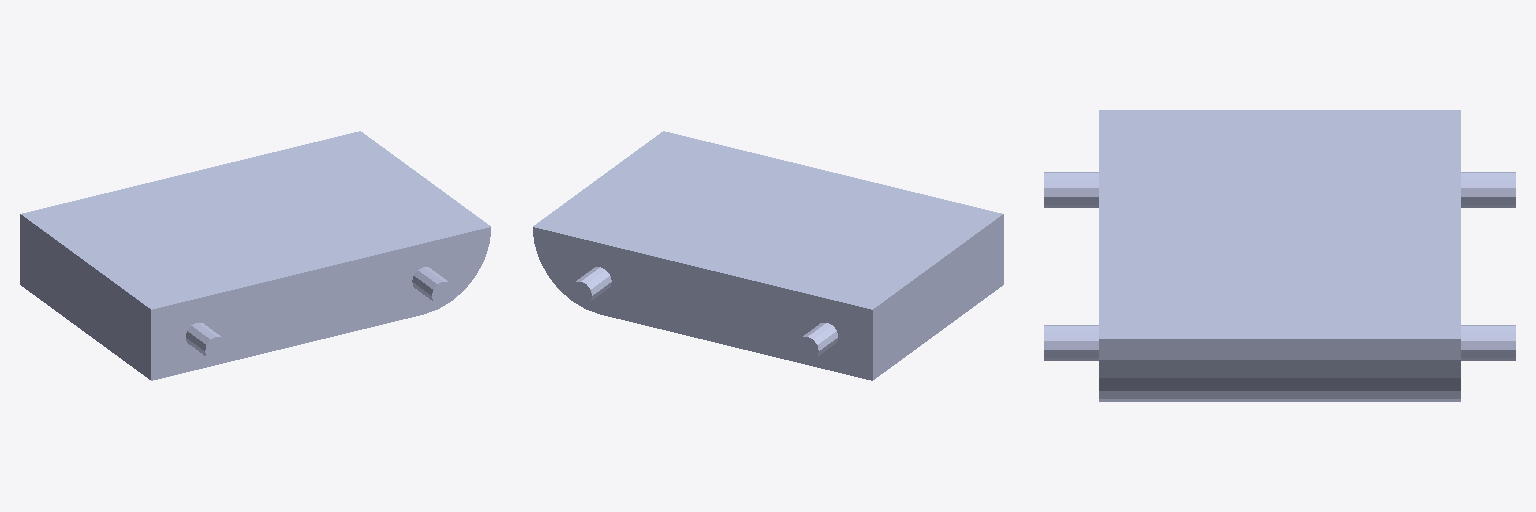
robot.urdf — test_robot_new:
<?xml version="1.0" encoding="utf-8"?>
<!-- This URDF was automatically created by SolidWorks to URDF Exporter! Originally created by [author] ([email redacted]) 
     Commit Version: 1.6.0-4-g7f85cfe  Build Version: 1.6.7995.38578
     For more information, please see http://wiki.ros.org/sw_urdf_exporter -->
<robot
  name="test_robot_new">
  <link
    name="base_link">
    <inertial>
      <origin
        xyz="-0.00783295899626751 -5.55111512312578E-17 0.0390350757080335"
        rpy="0 0 0" />
      <mass
        value="7.13489855703134" />
      <inertia
        ixx="0.0429607300728186"
        ixy="1.26516236649837E-18"
        ixz="-0.00117164522722027"
        iyy="0.0837969089032935"
        iyz="-8.50328223285494E-19"
        izz="0.120038095633599" />
    </inertial>
    <visual>
      <origin
        xyz="0 0 0"
        rpy="0 0 0" />
      <geometry>
        <mesh
          filename="package://test_robot_new/meshes/base_link.STL" />
      </geometry>
      <material
        name="">
        <color
          rgba="0.792156862745098 0.819607843137255 0.933333333333333 1" />
      </material>
    </visual>
    <collision>
      <origin
        xyz="0 0 0"
        rpy="0 0 0" />
      <geometry>
        <mesh
          filename="package://test_robot_new/meshes/base_link.STL" />
      </geometry>
    </collision>
  </link>
  <link
    name="FL_link">
    <inertial>
      <origin
        xyz="-1.2453E-08 -2.9421E-10 -0.0061242"
        rpy="0 0 0" />
      <mass
        value="0.31652" />
      <inertia
        ixx="0.0001855"
        ixy="-1.1155E-14"
        ixz="-2.8604E-11"
        iyy="0.0001855"
        iyz="-2.6374E-11"
        izz="0.00032954" />
    </inertial>
    <visual>
      <origin
        xyz="0 0 0"
        rpy="0 0 0" />
      <geometry>
        <mesh
          filename="package://test_robot_new/meshes/FL_link.STL" />
      </geometry>
      <material
        name="">
        <color
          rgba="0.75294 0.75294 0.75294 1" />
      </material>
    </visual>
    <collision>
      <origin
        xyz="0 0 0"
        rpy="0 0 0" />
      <geometry>
        <mesh
          filename="package://test_robot_new/meshes/FL_link.STL" />
      </geometry>
    </collision>
  </link>
  <joint
    name="FL_joint"
    type="continuous">
    <origin
      xyz="0.1143 0.1651 0.0381"
      rpy="1.5708 -1.5708 0" />
    <parent
      link="base_link" />
    <child
      link="FL_link" />
    <axis
      xyz="0 0 -1" />
    <dynamics
      friction="0.1" />
  </joint>
  <link
    name="BL_link">
    <inertial>
      <origin
        xyz="-1.2298E-08 3.7791E-09 -0.0061242"
        rpy="0 0 0" />
      <mass
        value="0.31652" />
      <inertia
        ixx="0.0001855"
        ixy="2.8752E-13"
        ixz="-3.5282E-11"
        iyy="0.0001855"
        iyz="-1.5794E-11"
        izz="0.00032954" />
    </inertial>
    <visual>
      <origin
        xyz="0 0 0"
        rpy="0 0 0" />
      <geometry>
        <mesh
          filename="package://test_robot_new/meshes/BL_link.STL" />
      </geometry>
      <material
        name="">
        <color
          rgba="0.75294 0.75294 0.75294 1" />
      </material>
    </visual>
    <collision>
      <origin
        xyz="0 0 0"
        rpy="0 0 0" />
      <geometry>
        <mesh
          filename="package://test_robot_new/meshes/BL_link.STL" />
      </geometry>
    </collision>
  </link>
  <joint
    name="BL_joint"
    type="continuous">
    <origin
      xyz="-0.1397 0.1651 0.0381"
      rpy="1.5708 -1.5708 0" />
    <parent
      link="base_link" />
    <child
      link="BL_link" />
    <axis
      xyz="0 0 -1" />
    <dynamics
      friction="0.1" />
  </joint>
  <link
    name="FR_link">
    <inertial>
      <origin
        xyz="-1.0136E-09 -7.3345E-09 -0.0065939"
        rpy="0 0 0" />
      <mass
        value="0.3168" />
      <inertia
        ixx="0.00018552"
        ixy="-3.4022E-11"
        ixz="1.4574E-10"
        iyy="0.00018552"
        iyz="3.6112E-11"
        izz="0.00032954" />
    </inertial>
    <visual>
      <origin
        xyz="0 0 0"
        rpy="0 0 0" />
      <geometry>
        <mesh
          filename="package://test_robot_new/meshes/FR_link.STL" />
      </geometry>
      <material
        name="">
        <color
          rgba="0.75294 0.75294 0.75294 1" />
      </material>
    </visual>
    <collision>
      <origin
        xyz="0 0 0"
        rpy="0 0 0" />
      <geometry>
        <mesh
          filename="package://test_robot_new/meshes/FR_link.STL" />
      </geometry>
    </collision>
  </link>
  <joint
    name="FR_joint"
    type="continuous">
    <origin
      xyz="0.1143 -0.1651 0.0381"
      rpy="1.5708 -1.5708 0" />
    <parent
      link="base_link" />
    <child
      link="FR_link" />
    <axis
      xyz="0 0 -1" />
    <dynamics
      friction="0.1" />
  </joint>
  <link
    name="FB_link">
    <inertial>
      <origin
        xyz="-1.0518E-08 2.8097E-09 -0.0065939"
        rpy="0 0 0" />
      <mass
        value="0.3168" />
      <inertia
        ixx="0.00018552"
        ixy="-2.4098E-12"
        ixz="-4.0559E-11"
        iyy="0.00018552"
        iyz="-1.4424E-10"
        izz="0.00032954" />
    </inertial>
    <visual>
      <origin
        xyz="0 0 0"
        rpy="0 0 0" />
      <geometry>
        <mesh
          filename="package://test_robot_new/meshes/FB_link.STL" />
      </geometry>
      <material
        name="">
        <color
          rgba="0.75294 0.75294 0.75294 1" />
      </material>
    </visual>
    <collision>
      <origin
        xyz="0 0 0"
        rpy="0 0 0" />
      <geometry>
        <mesh
          filename="package://test_robot_new/meshes/FB_link.STL" />
      </geometry>
    </collision>
  </link>
  <joint
    name="FB_joint"
    type="continuous">
    <origin
      xyz="-0.1397 -0.1651 0.0381"
      rpy="1.5708 -1.5708 0" />
    <parent
      link="base_link" />
    <child
      link="FB_link" />
    <axis
      xyz="0 0 -1" />
    <dynamics
      friction="0.1" />
  </joint>
</robot>

--- Render facts (derived) ---
The picture shows the robot from 3 angles, left to right: view 1: azimuth 30°, elevation 25°; view 2: azimuth 150°, elevation 25°; view 3: azimuth 270°, elevation 25°; orthographic projection.
Robot: test_robot_new — 5 links, 4 joints (4 continuous); root link base_link; default pose: all joints at 0.
Visible links, largest first — view 1: base_link; view 2: base_link; view 3: base_link.
Boxes of the visible links, x1,y1,x2,y2 form: base_link: (20,131,490,380); base_link: (533,131,1003,380); base_link: (1044,110,1515,401).
Bounding box of the posed robot: 0.381 × 0.3302 × 0.0762 m (x, y, z).
Meshes: 5 distinct files referenced, 1 mesh visuals loaded (1 binary STL); not drawn: 4 (reference not matched to a file when rendering).